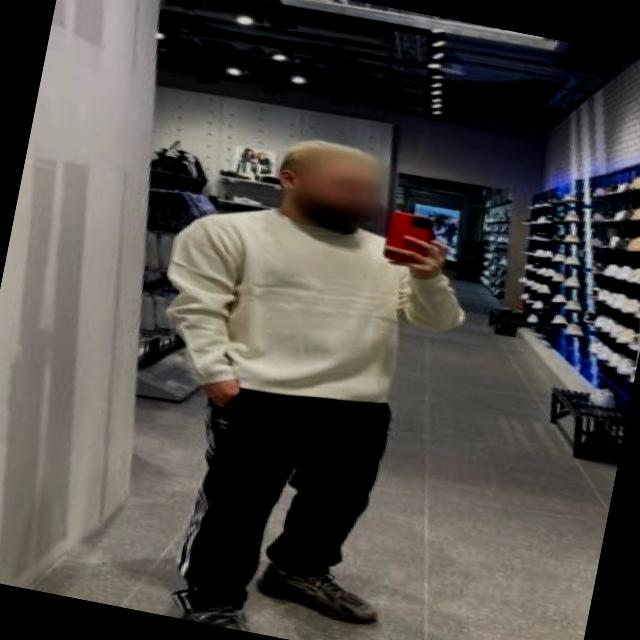mtm: (147, 190, 483, 432)
trainingpants: (168, 368, 393, 636)
